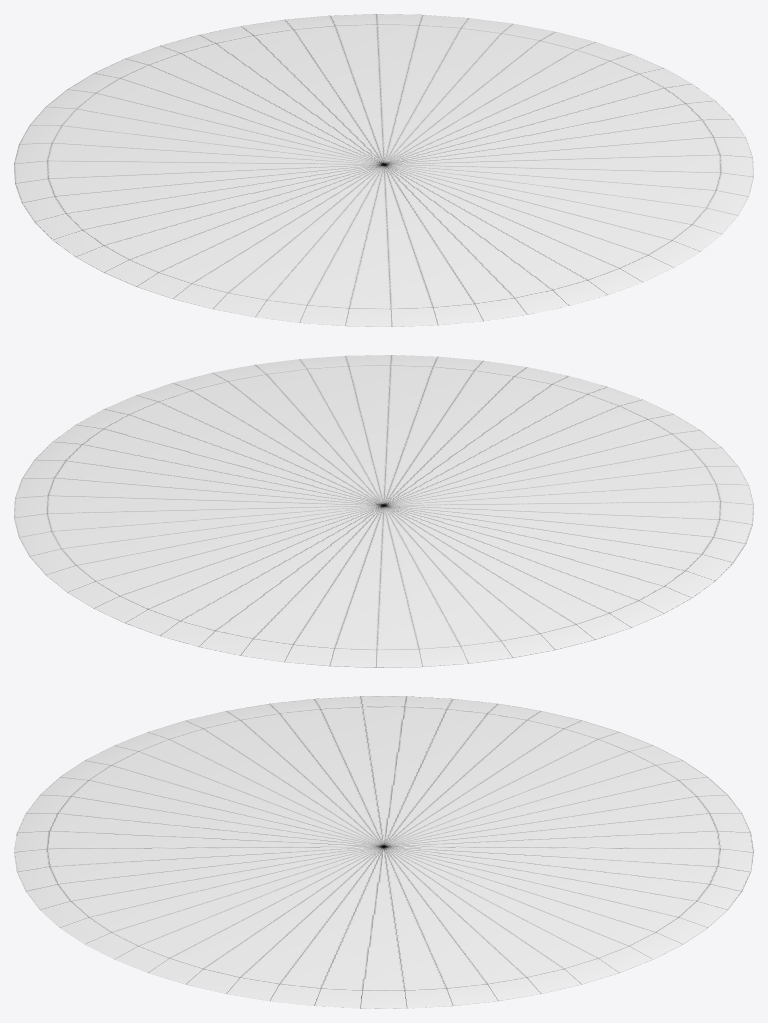
The picture shows the model from 3 angles, top to bottom: view 1: azimuth 30°, elevation 25°; view 2: azimuth 150°, elevation 25°; view 3: azimuth 270°, elevation 25°; orthographic projection.
Parts seen in each view (by area): view 1: 地毯; view 2: 地毯; view 3: 地毯.
Boxes of the visible parts, left/top/right/bottom form: 地毯: left=14, top=14, right=753, bottom=326; 地毯: left=14, top=355, right=753, bottom=667; 地毯: left=14, top=696, right=753, bottom=1008.
Bounding box in the file's own units: 59.11 × 0.5186 × 59.23.
